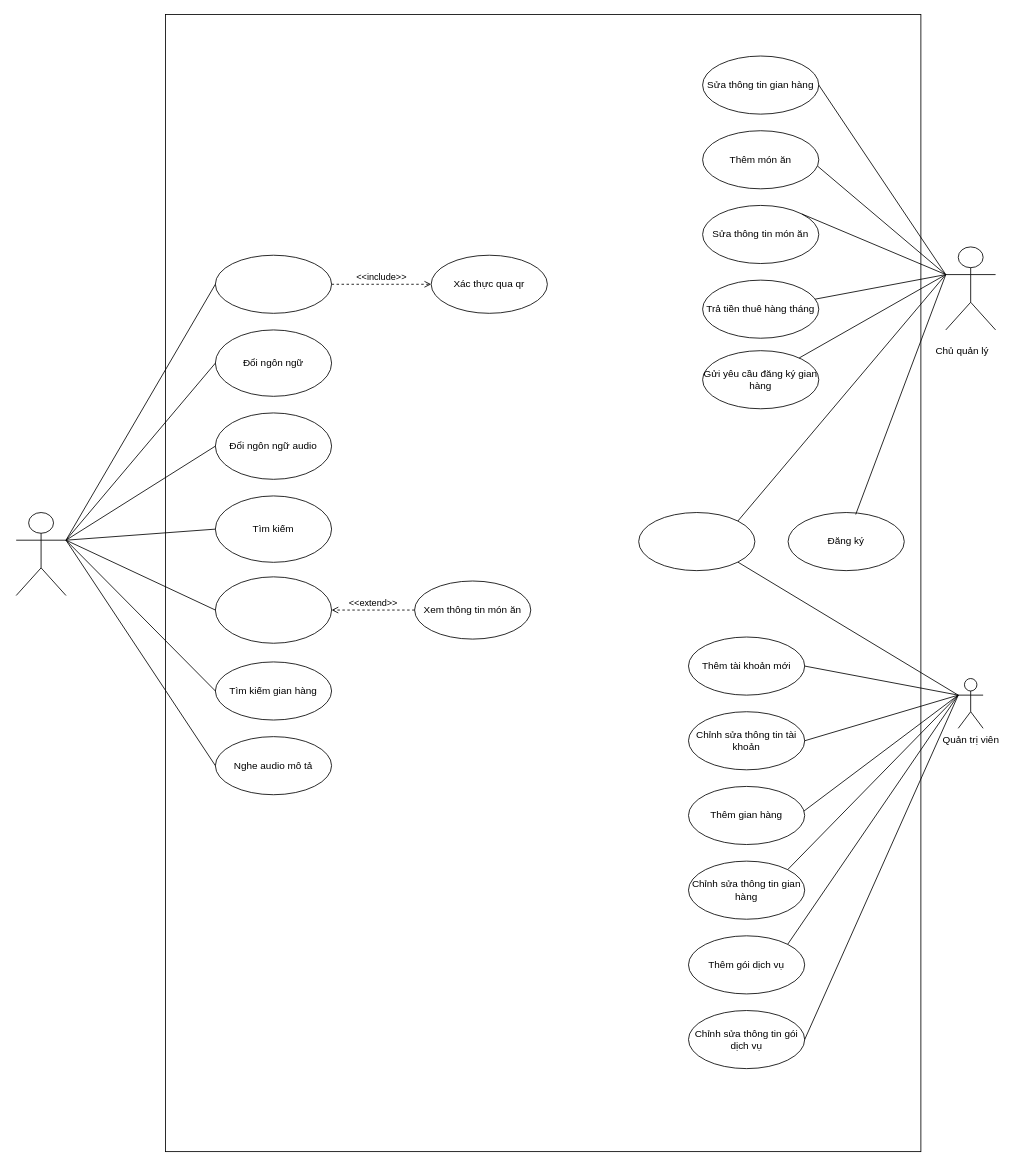
Some shapes in this 1013 by 1166 pixel diagram are drawn without their labels. Each missing label, with the box of its shape:
Khách hàng: (15, 512, 66, 596)
Truy cập ứng dụng: (215, 254, 332, 313)
Xem thông tin gian hàng: (215, 576, 332, 643)
Đăng nhập: (638, 512, 755, 571)
